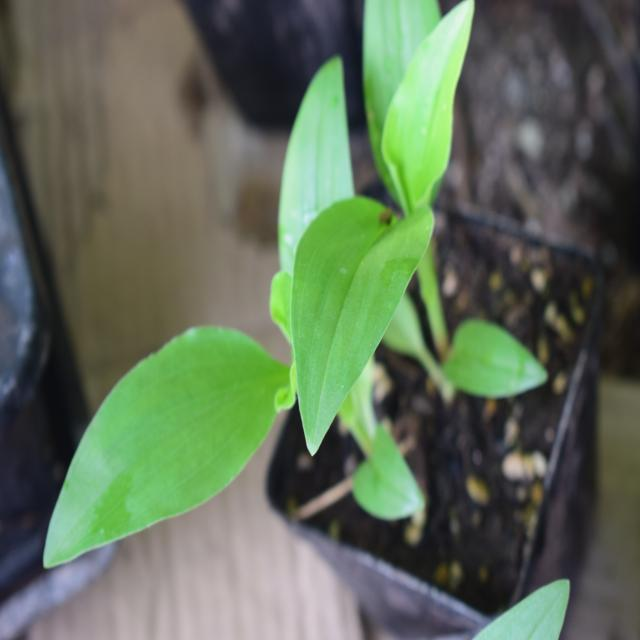Common Dayflower: (70, 62, 486, 557)
